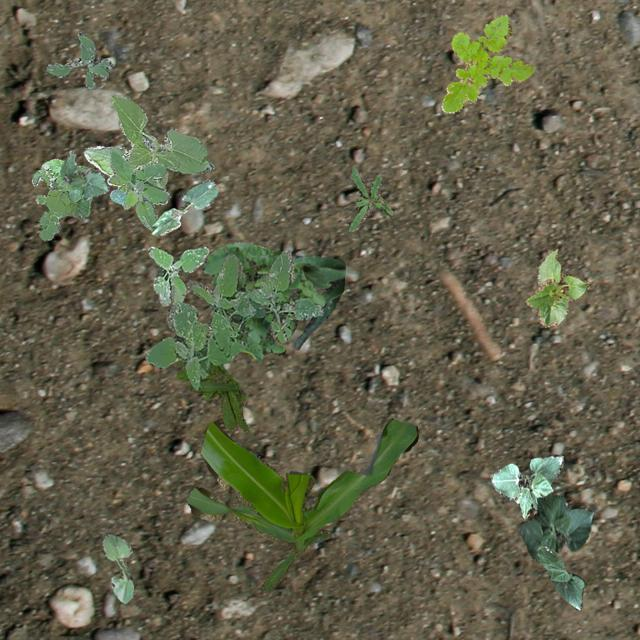crop: (186, 418, 416, 592), (82, 94, 212, 208), (290, 254, 344, 348), (518, 494, 592, 562), (524, 248, 588, 326), (490, 453, 562, 518), (150, 178, 218, 235), (536, 544, 584, 610), (58, 150, 108, 198), (101, 534, 132, 602)
weed: (144, 248, 322, 388), (200, 242, 324, 361), (441, 13, 534, 112), (175, 358, 248, 431), (30, 158, 90, 240), (108, 148, 168, 228), (44, 32, 112, 88), (146, 246, 208, 306), (348, 166, 392, 230)
